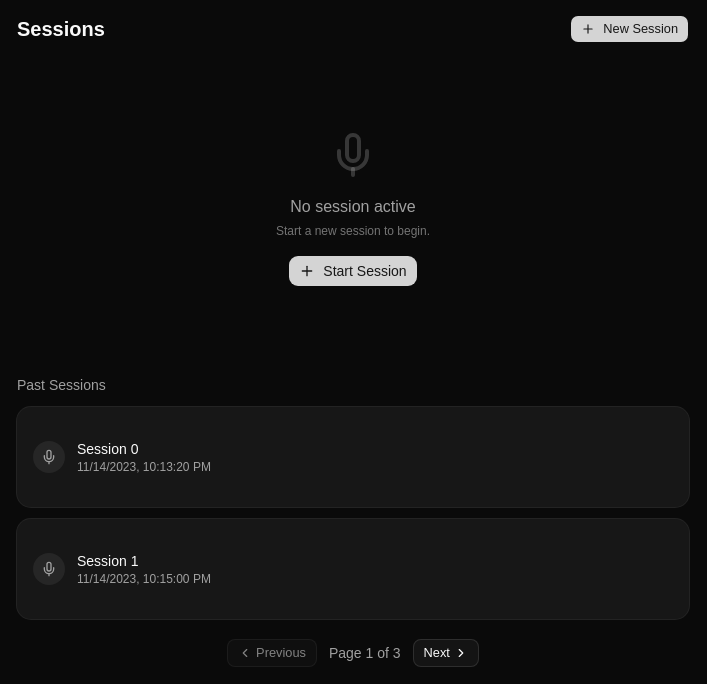
Test: SessionsPage › clicking Next fetches next page
Expected: the text "Session 0" is shown, x1=77 y1=441 x2=138 y2=457
Click the button "Next" at (446, 653), box x1=413 y1=639 x2=479 y2=667
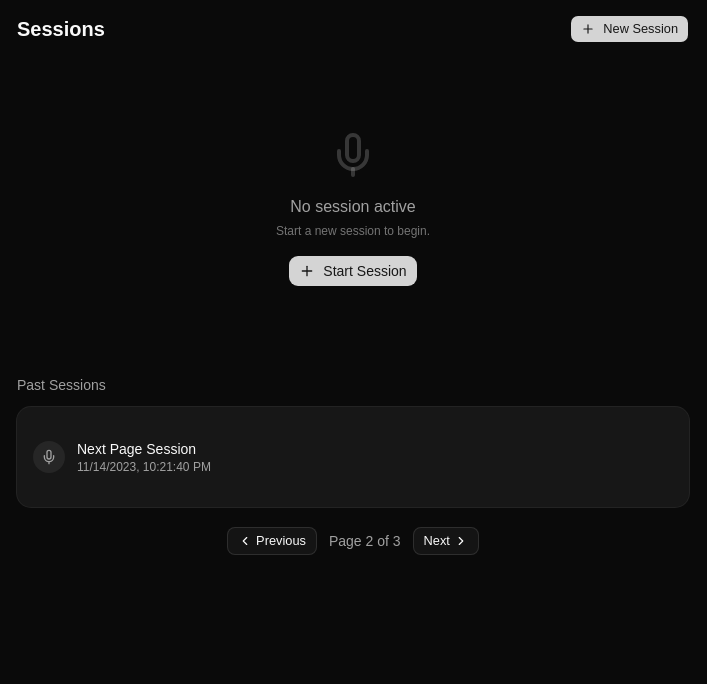
Expected: the text "Next Page Session" is shown, x1=77 y1=441 x2=196 y2=457
